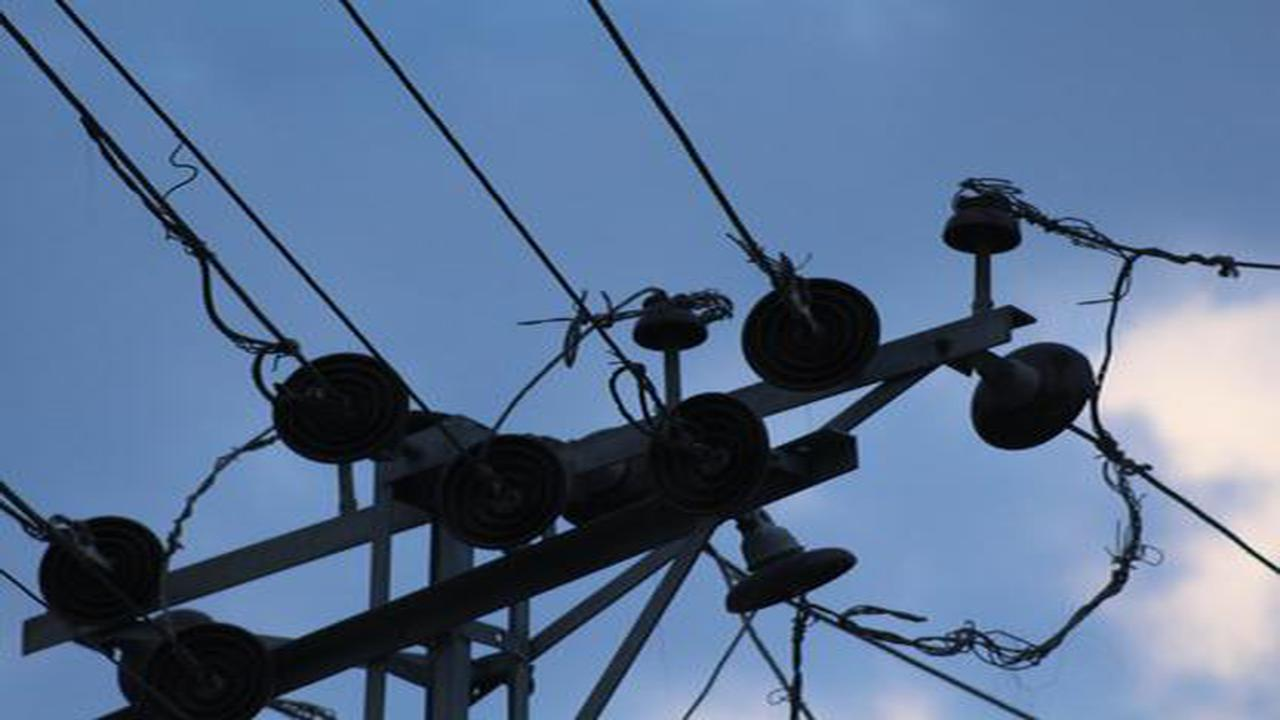insulator_disc: (740, 272, 884, 397), (271, 349, 417, 472), (431, 430, 575, 546), (36, 508, 174, 627), (972, 334, 1099, 454), (645, 392, 769, 514), (718, 524, 869, 618), (136, 620, 280, 713)
insulator_pin: (940, 181, 1027, 260), (633, 282, 715, 352)
